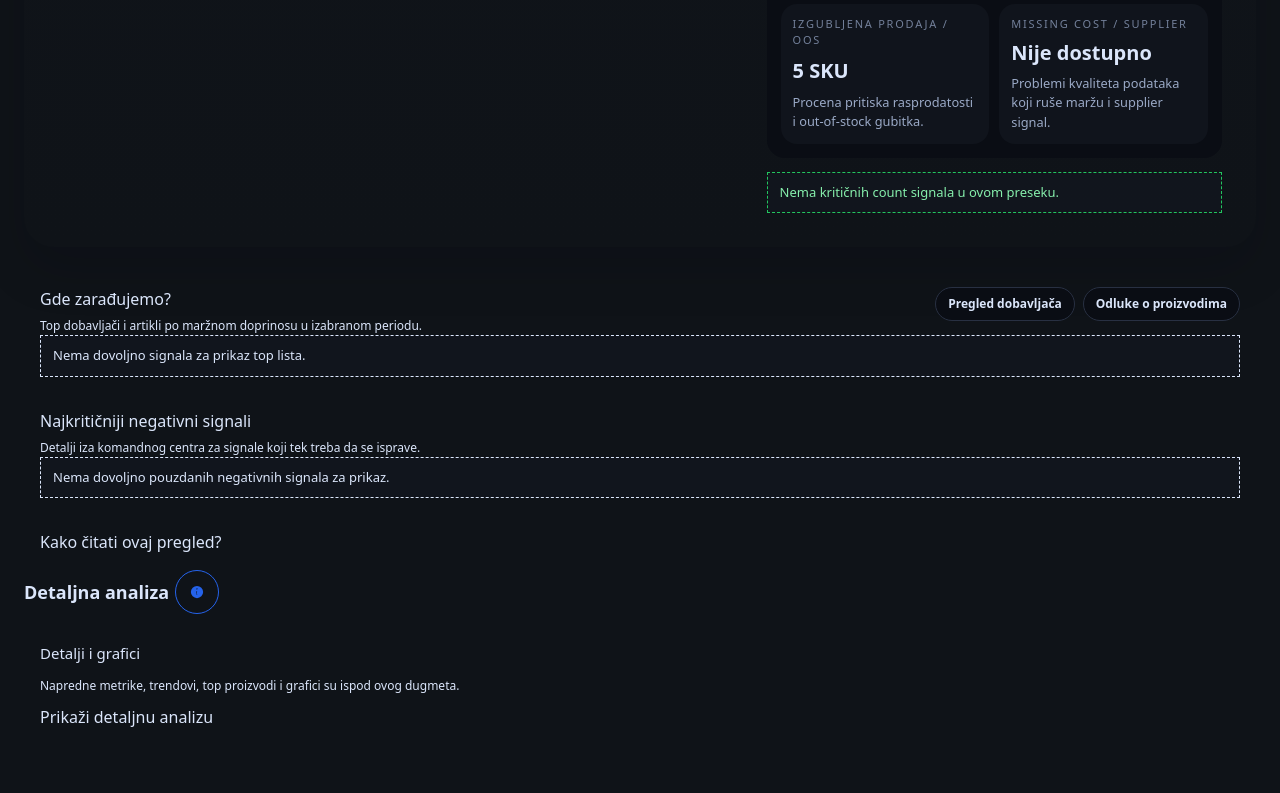
Test case: AnalyticsDashboard table system › excludes unknown/non-finite trends from top losers list
The width and height of the screenshot is (1280, 793).
(page scrolled)
Click the button "Prikaži detaljnu analizu".
click(127, 717)  # box left=40, top=705, right=213, bottom=729
(page scrolled)
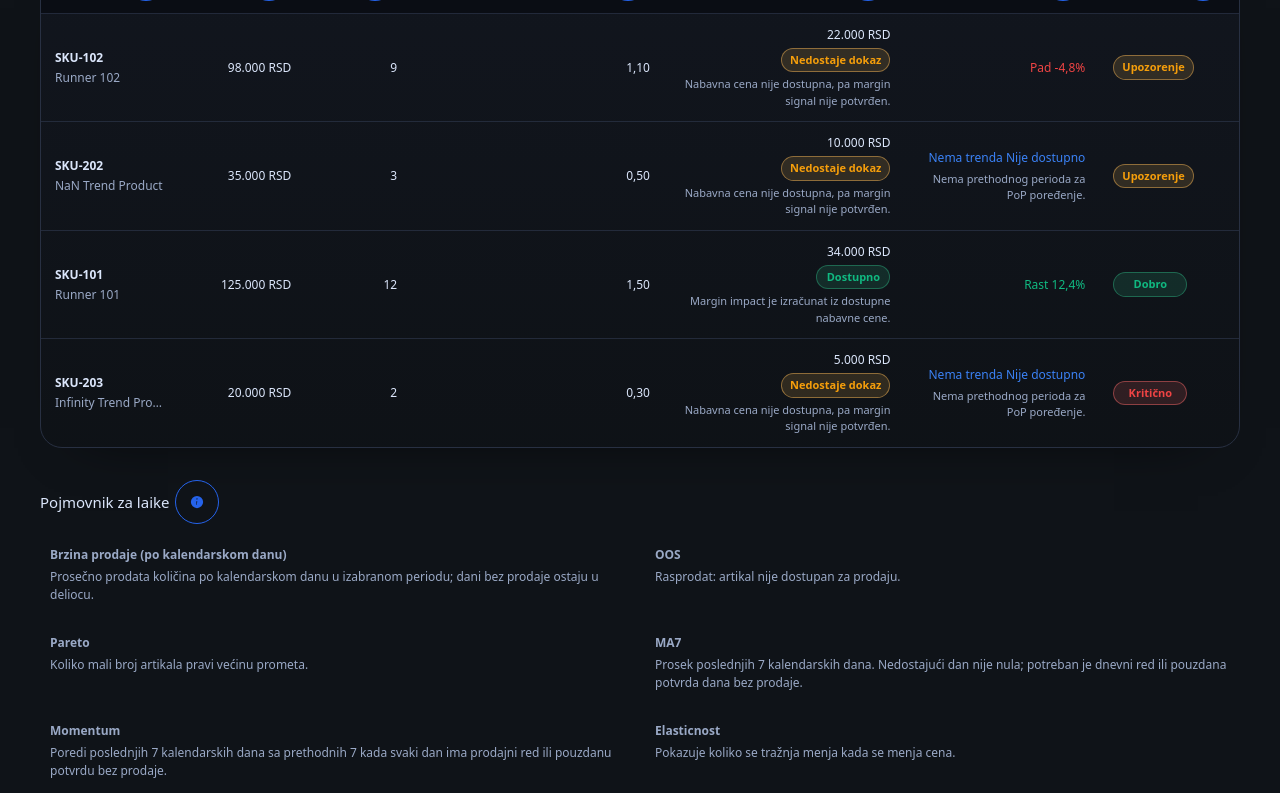
Now the text "NaN Trend Product" shows "Nema trenda", box left=928, top=149, right=1003, bottom=166
Now the text "Infinity Trend Product" shows "Nema trenda", box left=928, top=366, right=1003, bottom=383
